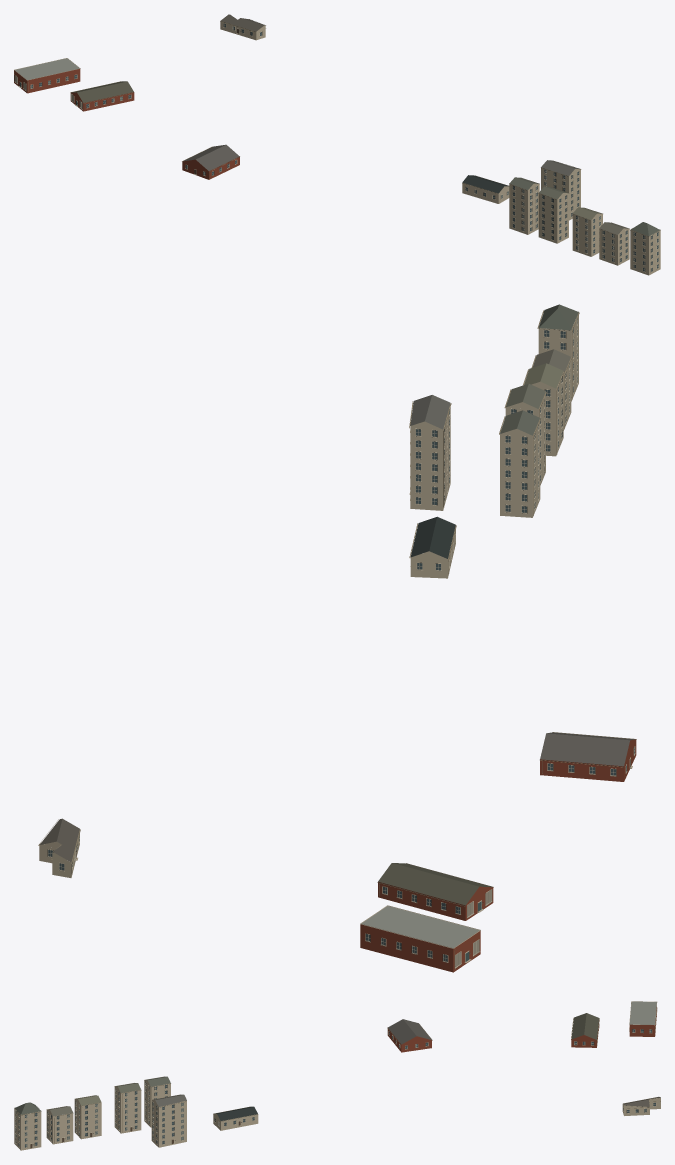
3 views of the same model, one above another, from view 1: azimuth 30°, elevation 25°; view 2: azimuth 150°, elevation 25°; view 3: azimuth 270°, elevation 25° (orthographic). The views are drawn at different scales.
Visible parts, largest first — view 1: -1_13_599465697_3, -1_13_608383938_10; view 2: -1_13_599465697_3, -1_13_608383938_10; view 3: -1_13_599465697_3, -1_13_608383938_10.
Boxes of the visible parts, <box> form: -1_13_599465697_3: <box>14,14,660,272</box>; -1_13_608383938_10: <box>220,21,660,275</box>; -1_13_599465697_3: <box>38,304,636,972</box>; -1_13_608383938_10: <box>39,312,578,877</box>; -1_13_599465697_3: <box>14,1001,660,1148</box>; -1_13_608383938_10: <box>14,1080,660,1150</box>.
Bounding box in the file's own units: 148 × 23.25 × 301.
